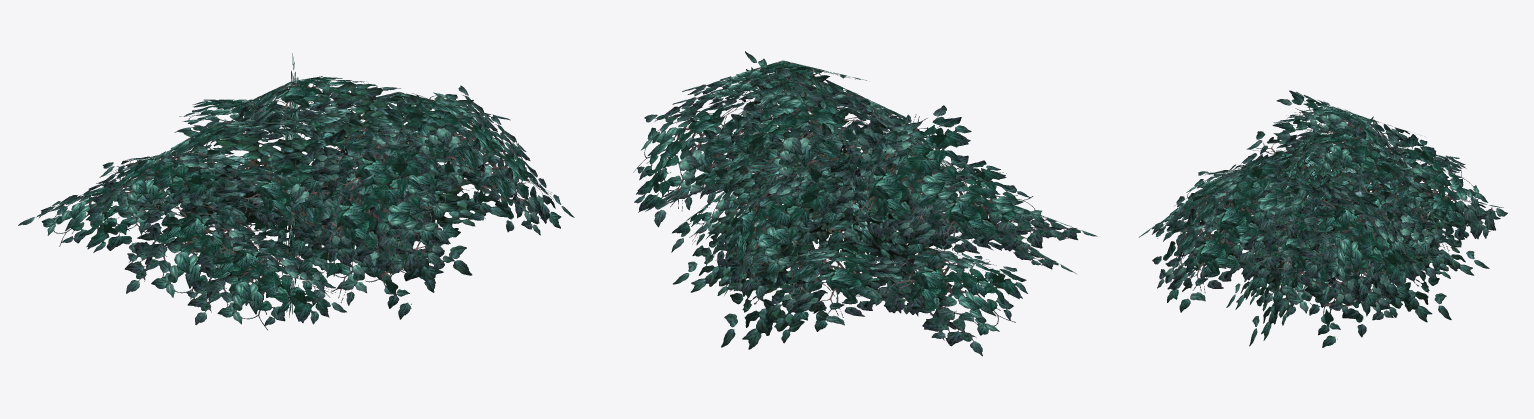
The model's file is shrb_dath_greybush_sm_l0.fbx.
3 views of the same model, side by side, from view 1: azimuth 30°, elevation 25°; view 2: azimuth 150°, elevation 25°; view 3: azimuth 270°, elevation 25° (orthographic). The views are drawn at different scales.
Parts seen in each view (by area): view 1: mesh_node; view 2: mesh_node; view 3: mesh_node.
Boxes of the visible parts, box(x1,y1,x2,y2) form: mesh_node: box(18, 53, 574, 330); mesh_node: box(633, 51, 1097, 356); mesh_node: box(1139, 90, 1507, 347).
Bounding box in the file's own units: 3.68 × 2.28 × 3.26.
